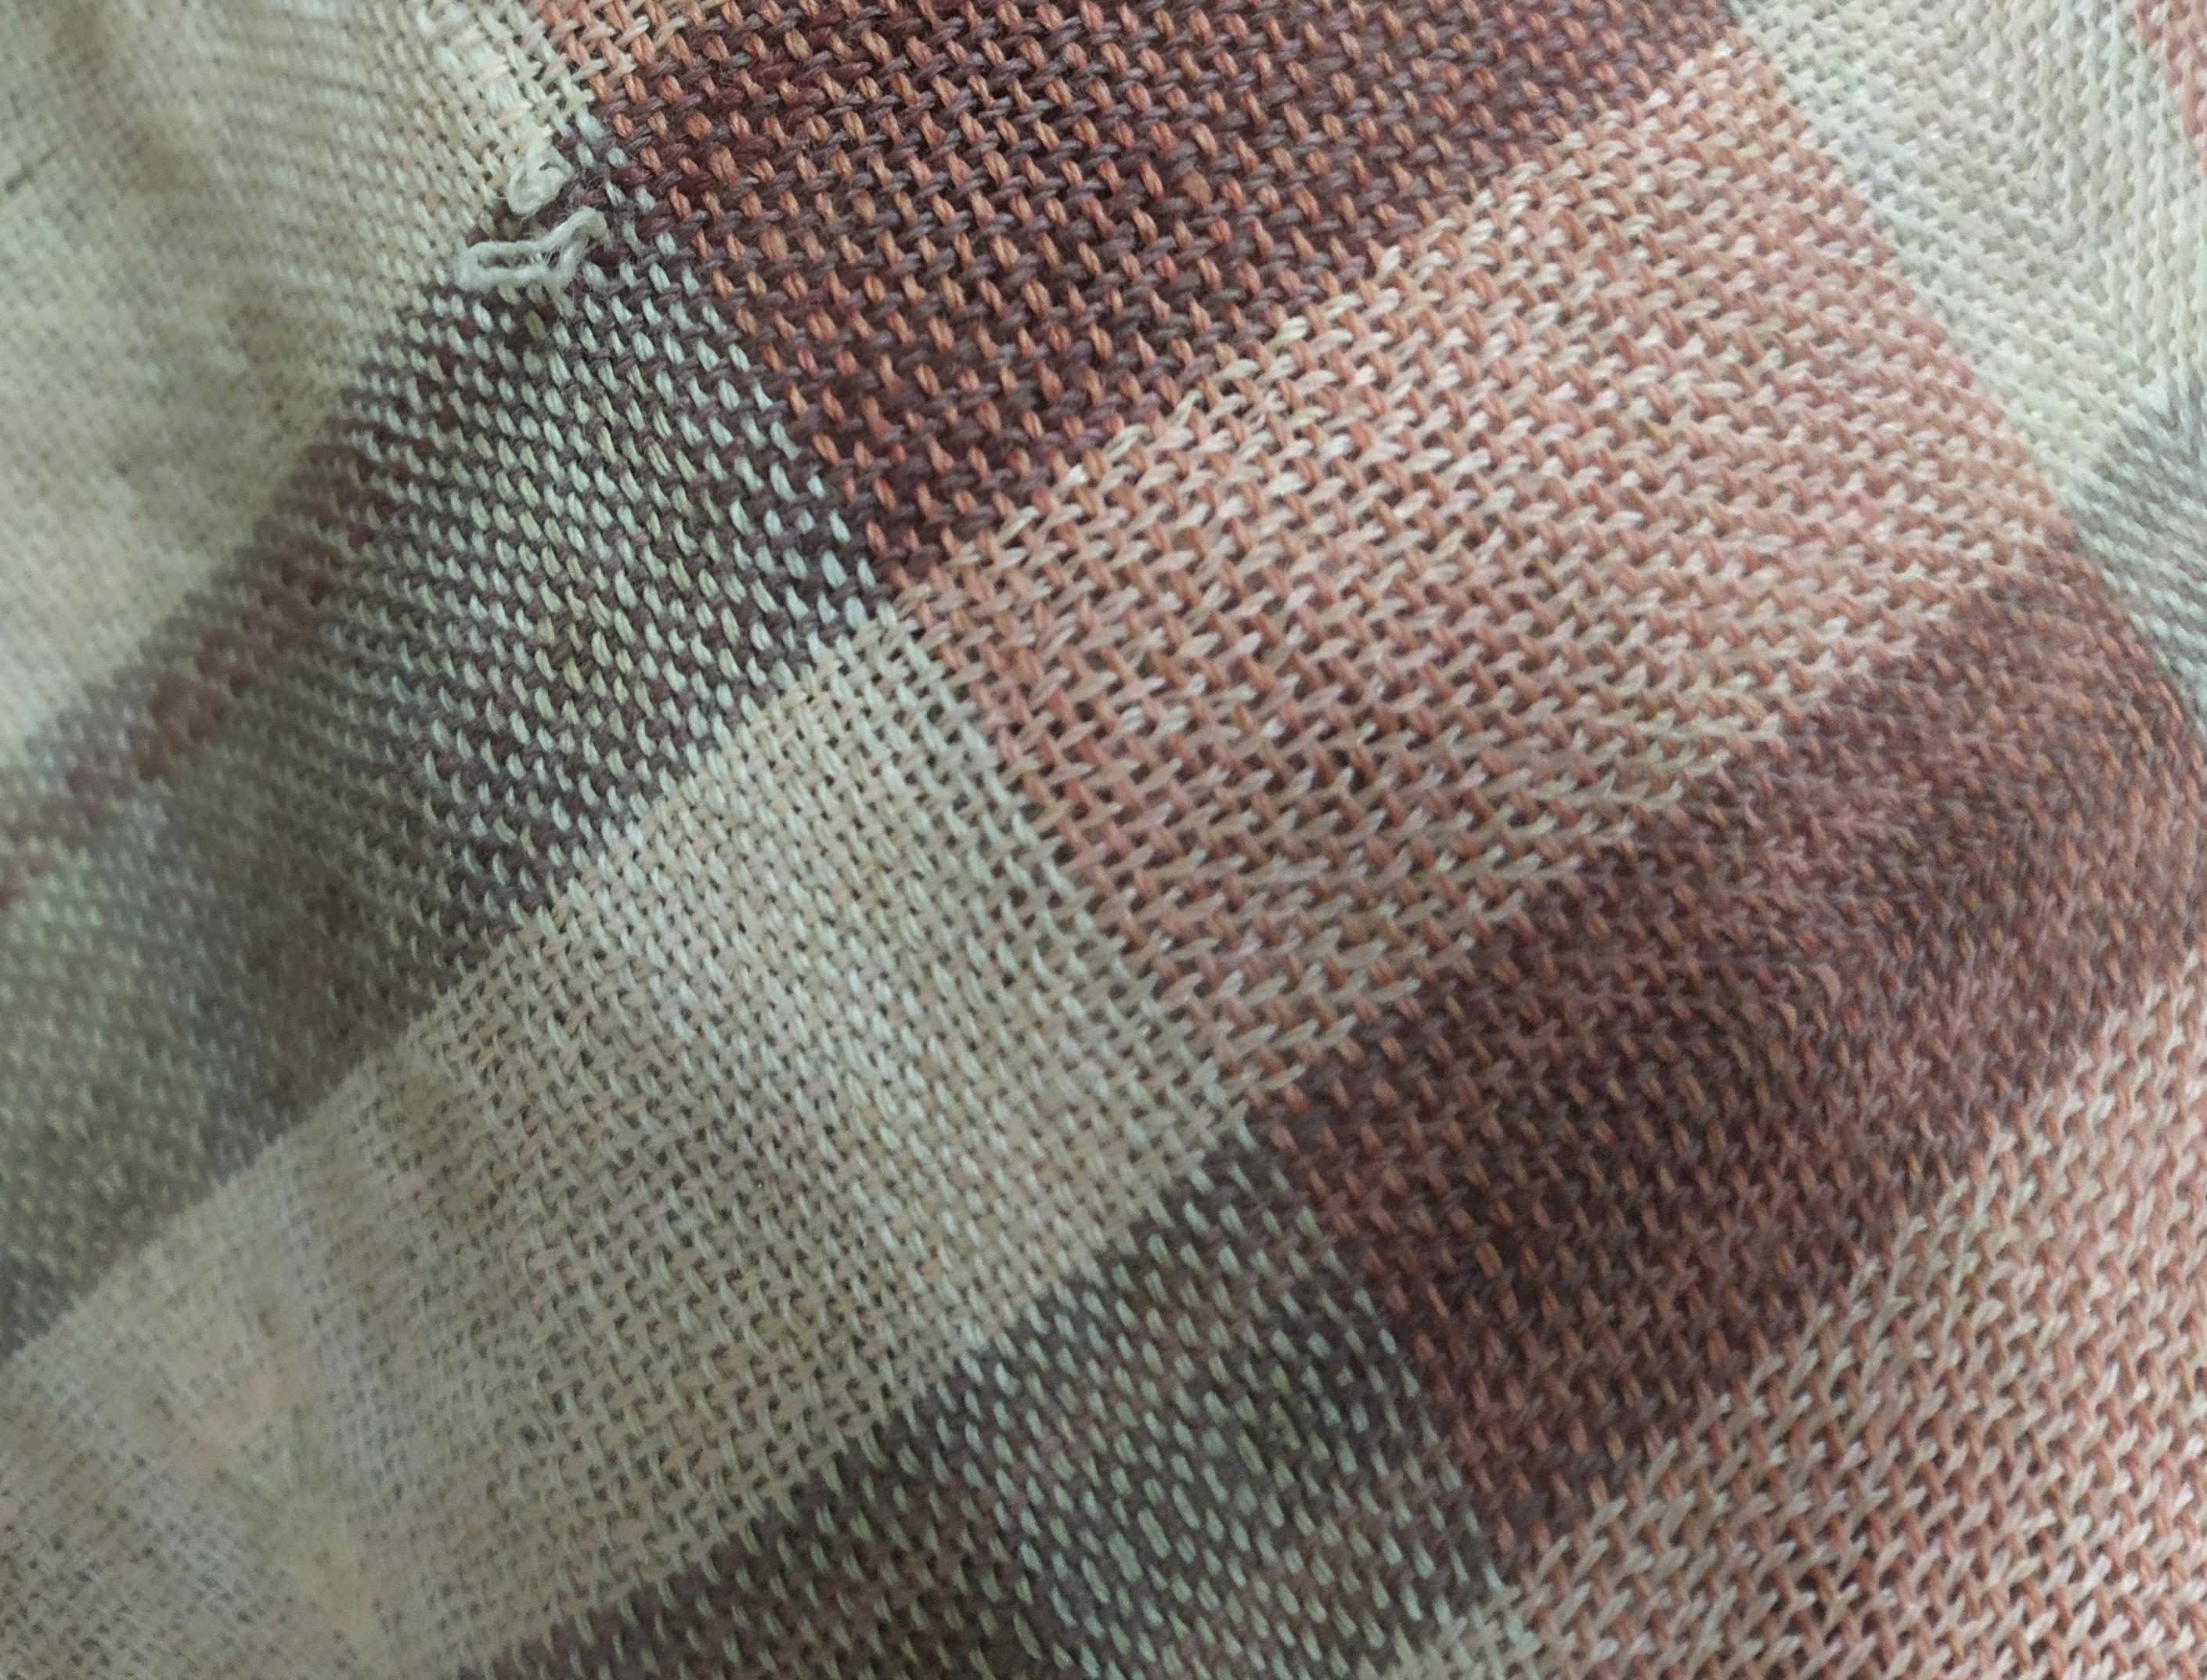snag: (434, 132, 637, 342)
